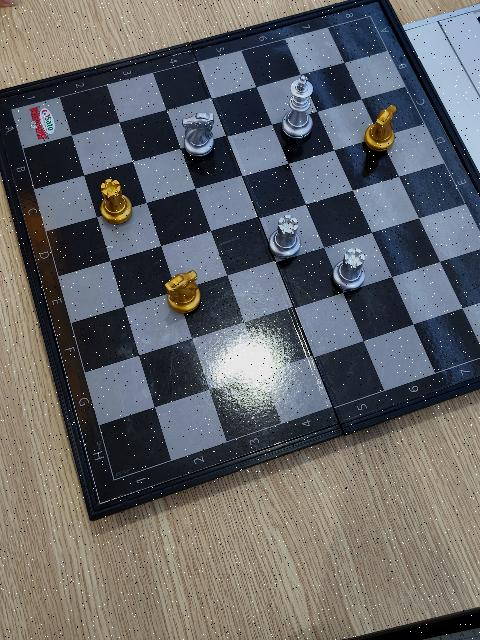black_knight: (164, 270, 202, 316), (364, 105, 397, 154)
black_rook: (99, 178, 132, 226)
white_king: (282, 75, 314, 140)
white_knight: (180, 111, 218, 160)
white_rook: (335, 247, 367, 294), (270, 215, 302, 261)
